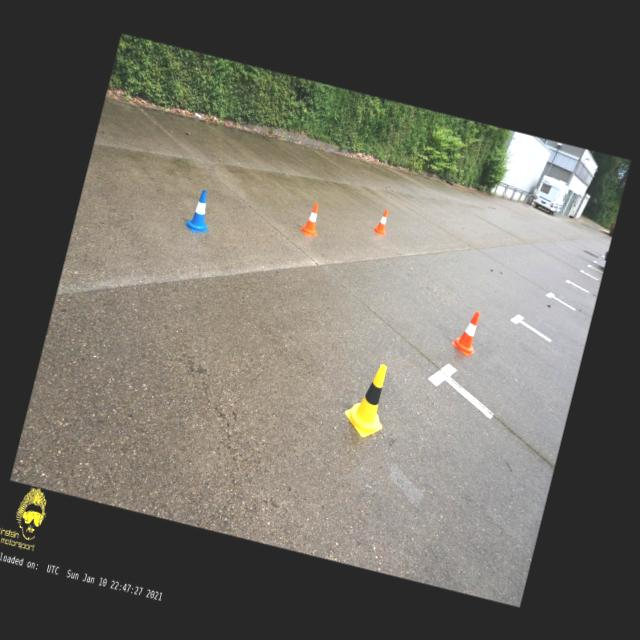blue_cone: (182, 187, 217, 236)
orange_cone: (449, 308, 483, 357), (298, 200, 325, 238), (372, 208, 390, 235)
yellow_cone: (339, 358, 396, 441)
